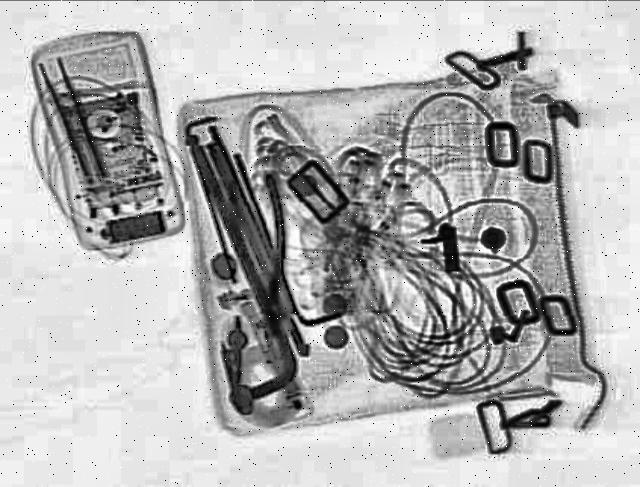Pliers: (209, 171, 311, 336)
